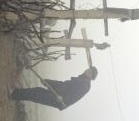person: (7, 65, 100, 111)
